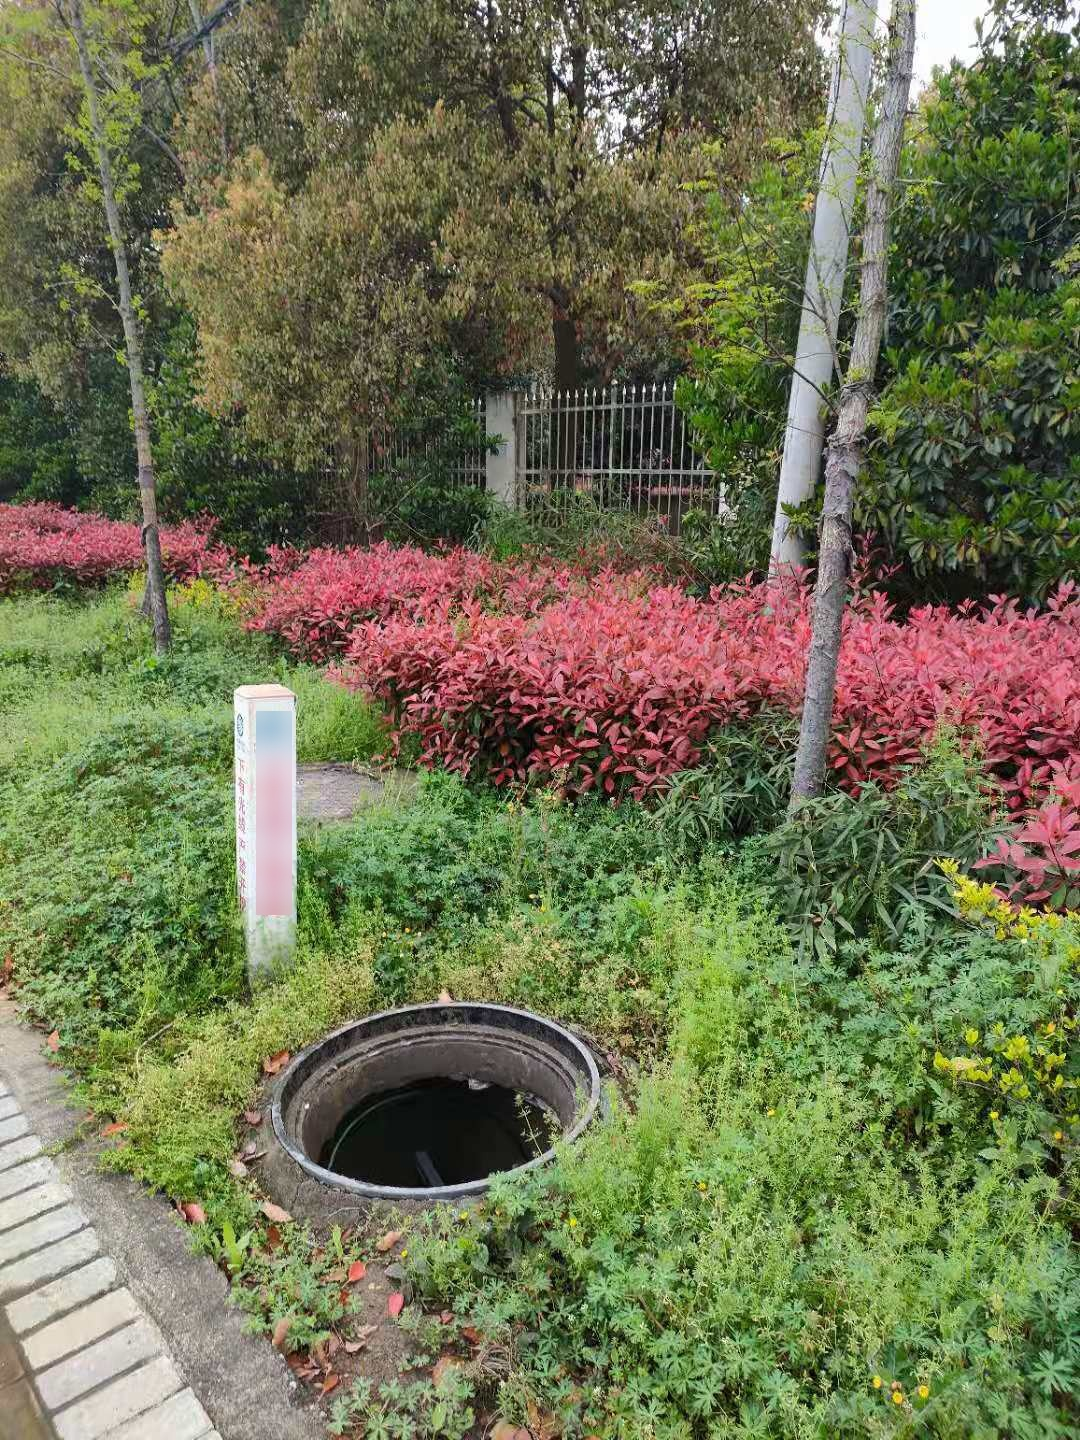lose: (267, 994, 604, 1201)
